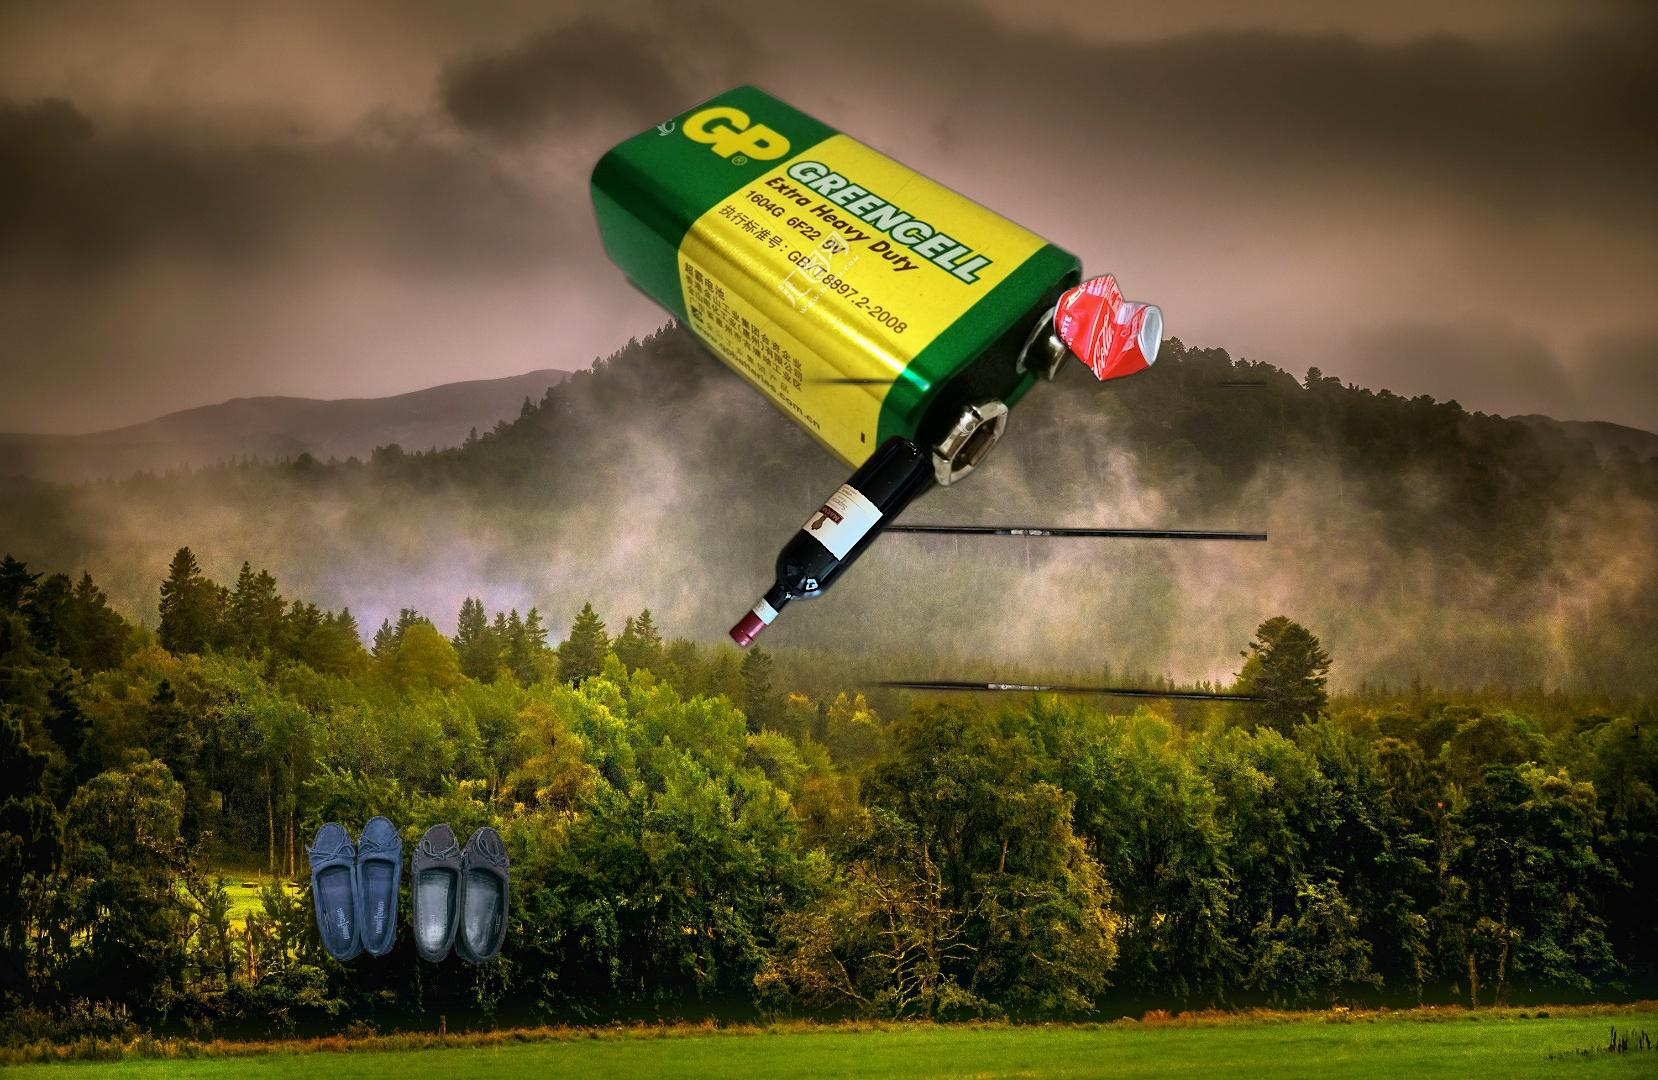battery: (581, 79, 1091, 509)
glass: (725, 429, 940, 654)
metal-cans: (755, 210, 1266, 873)
shoes: (302, 813, 514, 968)
